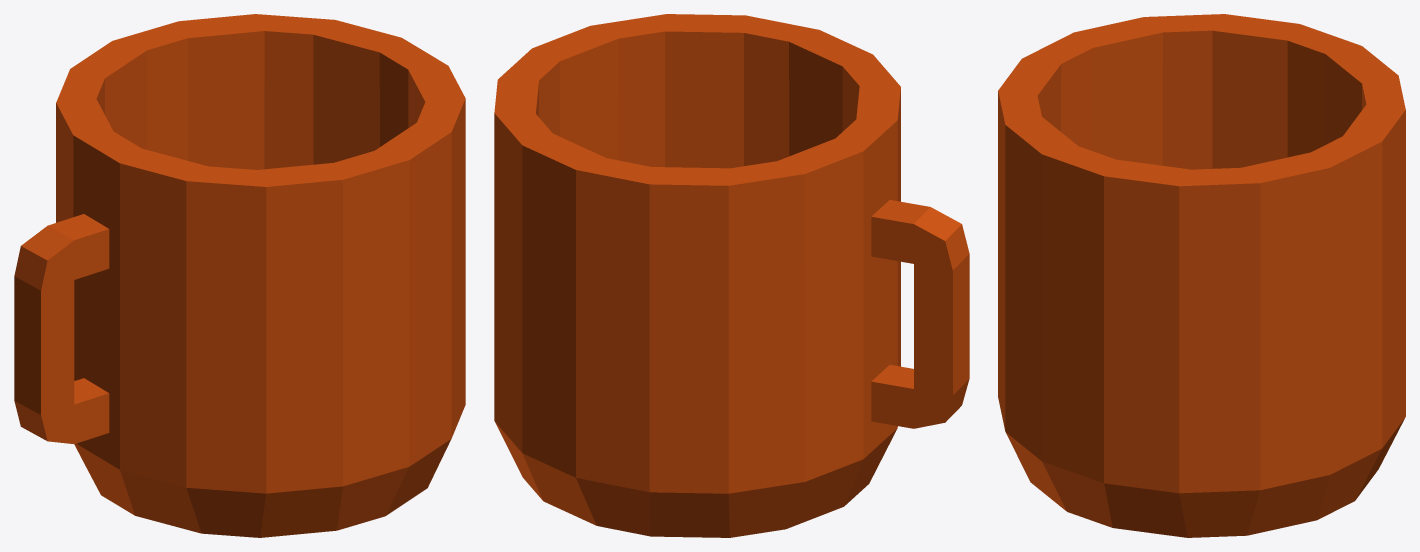
The model's file is mug.obj.
3 renders of one model, left to right at view 1: azimuth 30°, elevation 25°; view 2: azimuth 150°, elevation 25°; view 3: azimuth 270°, elevation 25°, orthographic.
Visible parts, largest first — view 1: Cylinder.106_Cylinder.124_other_2; view 2: Cylinder.106_Cylinder.124_other_2; view 3: Cylinder.106_Cylinder.124_other_2.
Part boxes in pixels (x1,y1,x2,y2): Cylinder.106_Cylinder.124_other_2: [14, 14, 465, 537]; Cylinder.106_Cylinder.124_other_2: [494, 14, 969, 537]; Cylinder.106_Cylinder.124_other_2: [998, 14, 1405, 537].
Size of the model in its own units: 0.0176 by 0.0143 by 0.0146.
